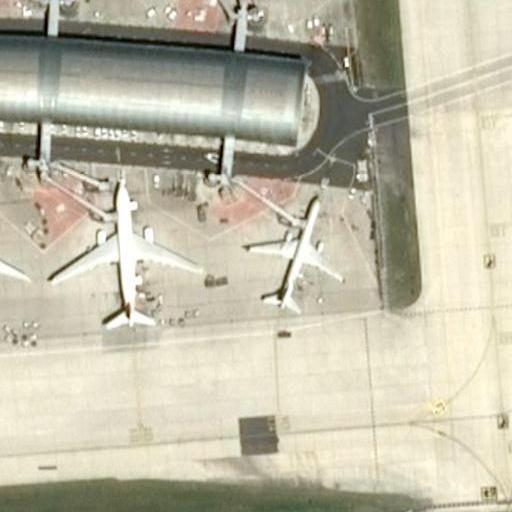Aircraft: (50, 174, 209, 330), (241, 185, 346, 320), (0, 160, 29, 353)
